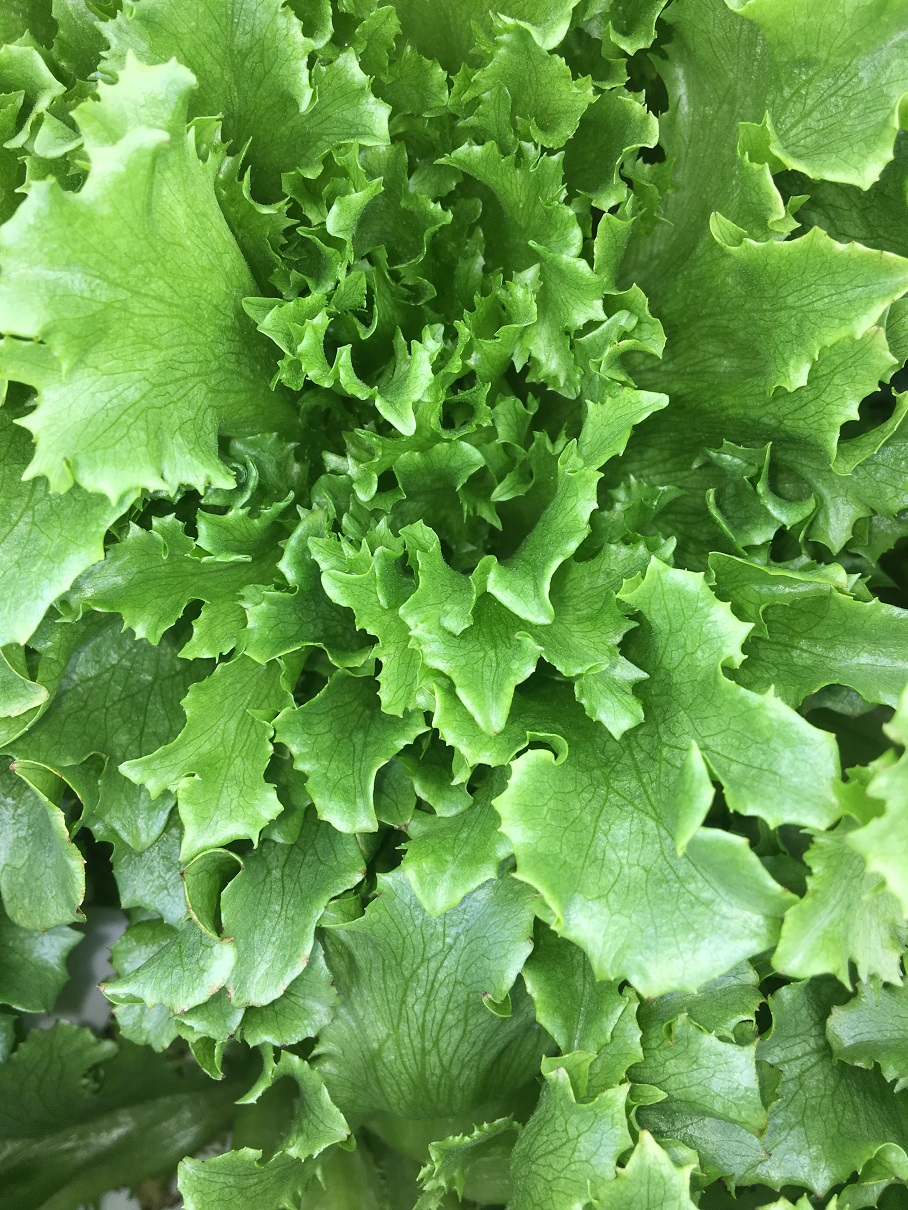tipburn: (628, 976, 673, 1022), (749, 1135, 795, 1179), (383, 807, 426, 854), (161, 847, 203, 894), (339, 849, 382, 892), (200, 915, 242, 958), (465, 973, 506, 1017), (168, 888, 208, 929), (209, 975, 249, 1014), (26, 914, 65, 953), (60, 883, 96, 923), (329, 1112, 365, 1152), (82, 973, 119, 1010), (166, 992, 200, 1030), (224, 850, 260, 884), (292, 941, 324, 979), (203, 1060, 236, 1094), (271, 976, 303, 1008), (1, 748, 29, 783), (867, 310, 894, 341), (45, 759, 73, 787), (548, 1055, 577, 1080), (90, 741, 118, 764), (60, 831, 88, 852), (65, 789, 88, 812)
